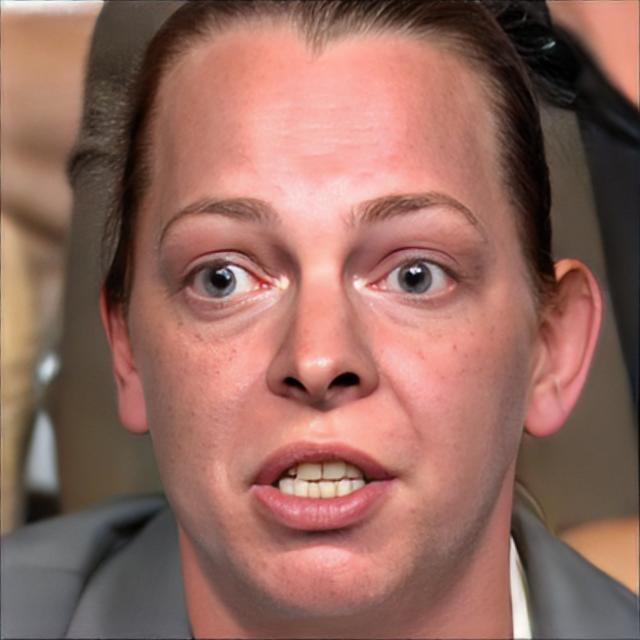surprise: (132, 10, 540, 633)
